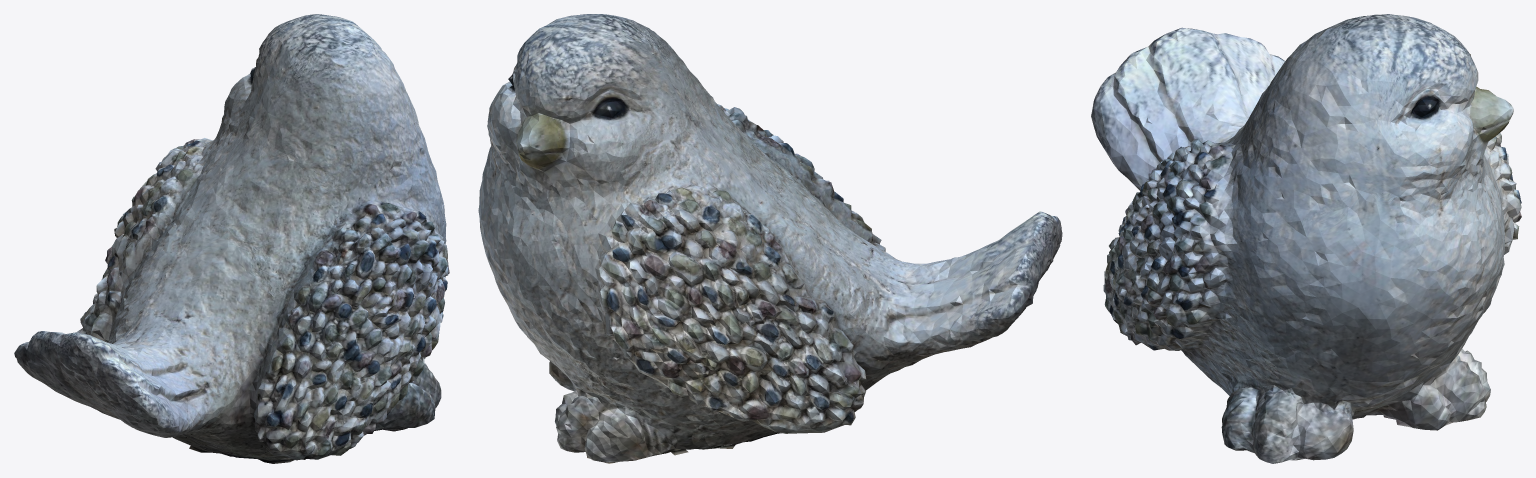
File: omas-vogel.glb
3 renders of one model, left to right at view 1: azimuth 30°, elevation 25°; view 2: azimuth 150°, elevation 25°; view 3: azimuth 270°, elevation 25°, orthographic. The views are drawn at different scales.
Size of the model in its own units: 0.3668 by 0.2815 by 0.2709.
Materials: 1 (1 with a texture image).
